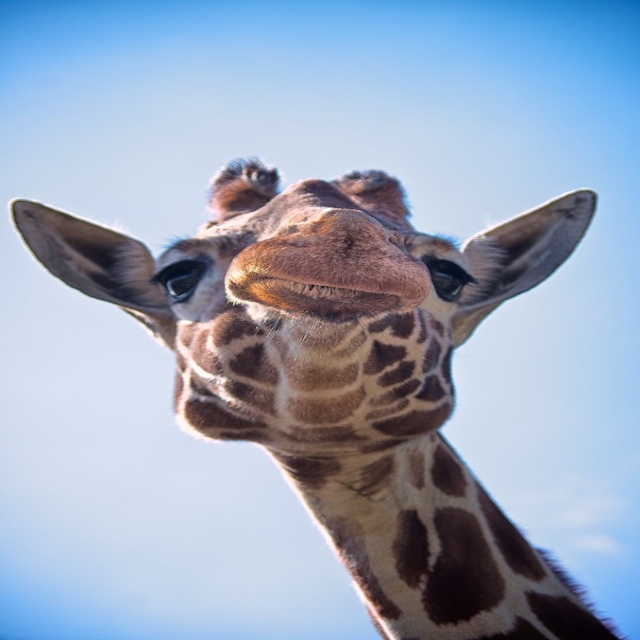Giraffe: (36, 135, 629, 638)
